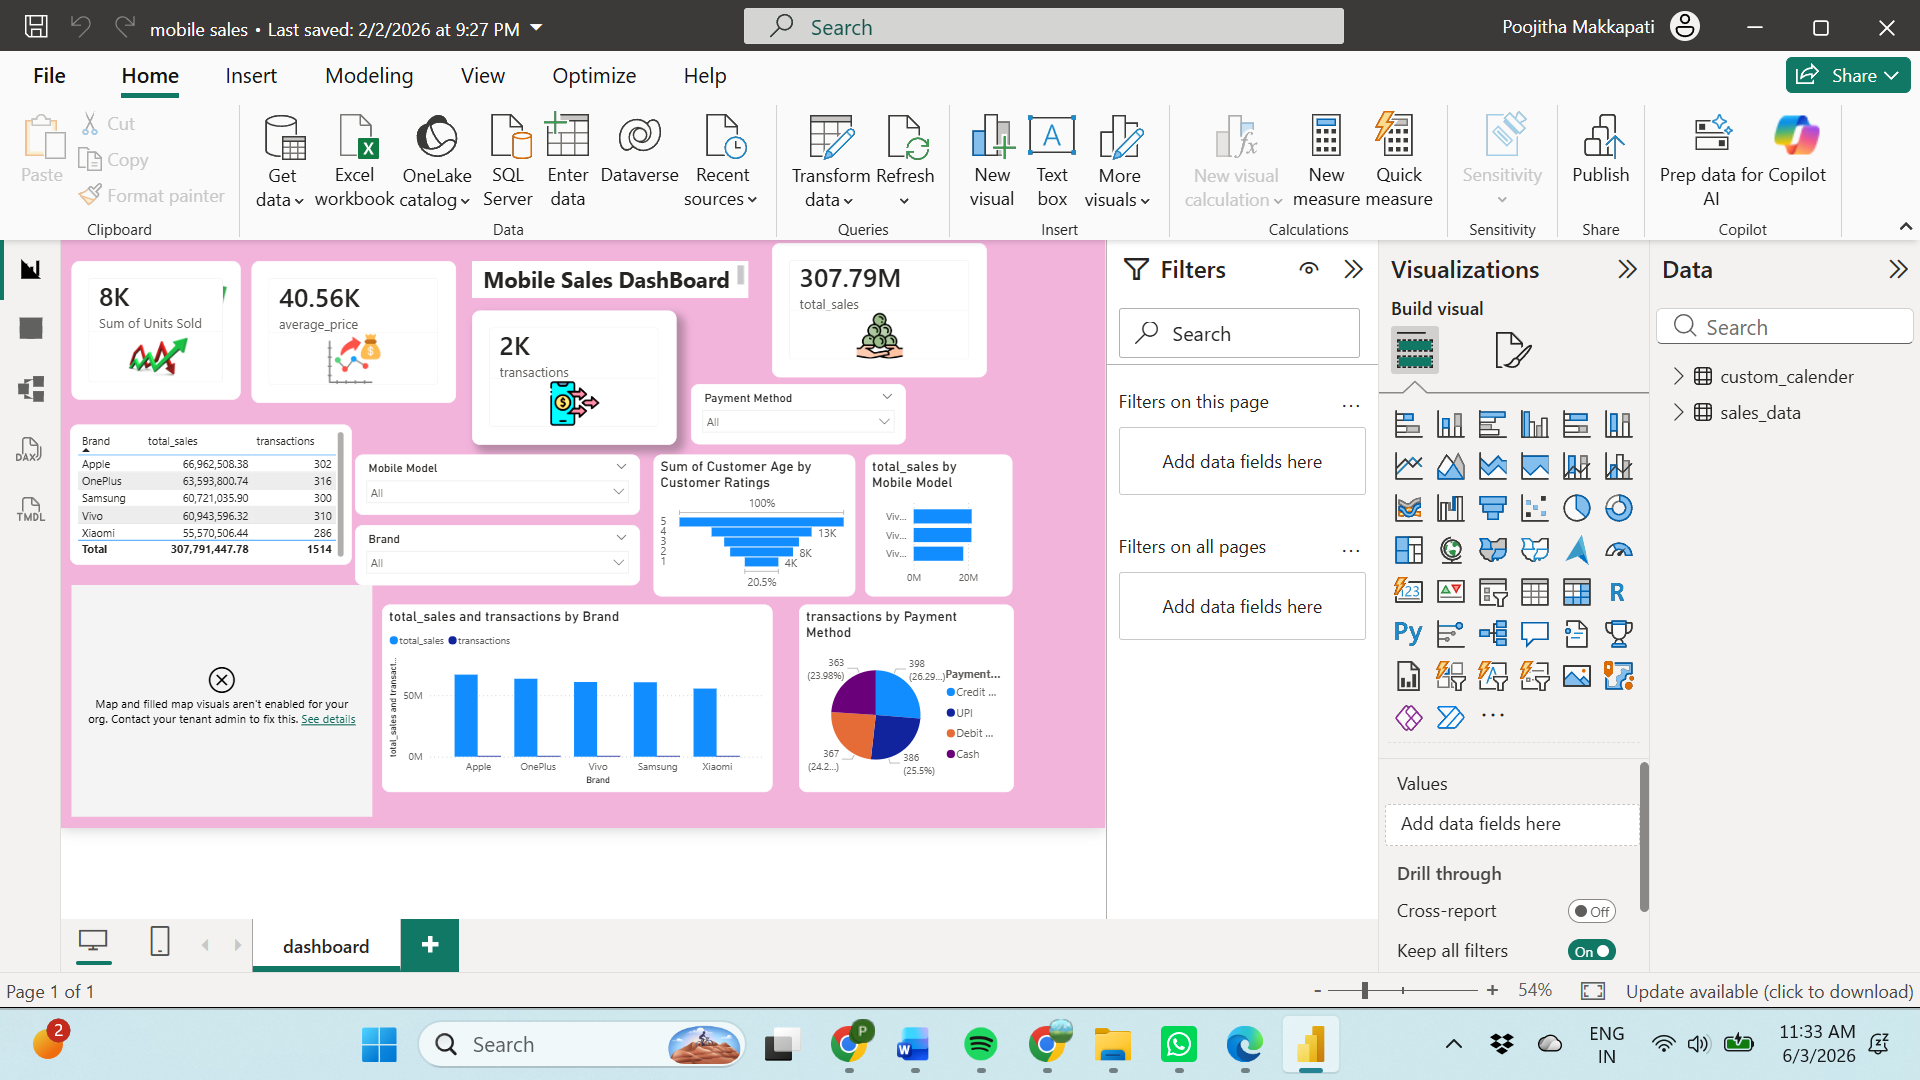

The page's visual inventory and layout, read from the dashboard file:
{"tool":"powerbi","page":{"name":"dashboard","canvas":[1280,720],"ordinal":0},"visuals":[{"type":"cardVisual","fields":{"Data":["Sum(sales_data.Units Sold)"]},"box":[12.3,26.3,207,170.2],"z":1000},{"type":"cardVisual","fields":{"Data":["sales_data.average_price"]},"box":[233.3,26.3,250.9,173.7],"z":2000},{"type":"cardVisual","fields":{"Data":["sales_data.transactions"]},"box":[503.5,86,250.9,164.9],"z":3000},{"type":"cardVisual","fields":{"Data":["sales_data.total_sales"]},"box":[871.9,3.5,263.2,164.9],"z":4000},{"type":"slicer","fields":{"Values":["sales_data.Mobile Model"]},"box":[359.6,263.2,349.1,73.7],"z":5000},{"type":"slicer","fields":{"Values":["sales_data.Payment Method"]},"box":[771.9,177.2,263.2,73.7],"z":6000},{"type":"slicer","fields":{"Values":["sales_data.Brand"]},"box":[359.6,349.1,349.1,73.7],"z":7000},{"type":"textbox","box":[503.5,26.3,338.6,45.6],"z":8000},{"type":"map","fields":{"Category":["sales_data.City"],"Size":["sales_data.total_sales"]},"box":[12.3,422.8,368.4,284.2],"z":9000},{"type":"funnel","fields":{"Category":["sales_data.Customer Ratings"],"Y":["Sum(sales_data.Customer Age)"]},"box":[726.3,263.2,247.4,173.7],"z":11000},{"type":"pieChart","fields":{"Y":["sales_data.transactions"],"Category":["sales_data.Payment Method"]},"box":[904,447,263,230],"z":12000},{"type":"clusteredBarChart","fields":{"Y":["sales_data.total_sales"],"Category":["sales_data.Mobile Model"]},"box":[986,263.2,180.7,173.7],"z":13000},{"type":"tableEx","fields":{"Values":["sales_data.Brand","sales_data.total_sales","sales_data.transactions"]},"box":[10.5,226.3,345.6,171.9],"z":13001},{"type":"clusteredColumnChart","fields":{"Category":["sales_data.Brand"],"Y":["sales_data.total_sales","sales_data.transactions"]},"box":[393,447.4,478.9,229.8],"z":13002}]}

Visuals, with their boxes on the page's 1280x720 design canvas (x1, y1, x2, y2). These are canvas units, not pixel positions in the 1920x1080 screenshot, which may show the page scaled, cropped or inside an application window:
cardVisual - Sum(sales_data.Units Sold): (12, 26, 219, 196)
cardVisual - sales_data.average_price: (233, 26, 484, 200)
cardVisual - sales_data.transactions: (504, 86, 754, 251)
cardVisual - sales_data.total_sales: (872, 4, 1135, 168)
slicer - sales_data.Mobile Model: (360, 263, 709, 337)
slicer - sales_data.Payment Method: (772, 177, 1035, 251)
slicer - sales_data.Brand: (360, 349, 709, 423)
textbox: (504, 26, 842, 72)
map - sales_data.City x sales_data.total_sales: (12, 423, 381, 707)
funnel - sales_data.Customer Ratings x Sum(sales_data.Customer Age): (726, 263, 974, 437)
pieChart - sales_data.transactions x sales_data.Payment Method: (904, 447, 1167, 677)
clusteredBarChart - sales_data.total_sales x sales_data.Mobile Model: (986, 263, 1167, 437)
tableEx - sales_data.Brand x sales_data.total_sales: (10, 226, 356, 398)
clusteredColumnChart - sales_data.Brand x sales_data.total_sales: (393, 447, 872, 677)
